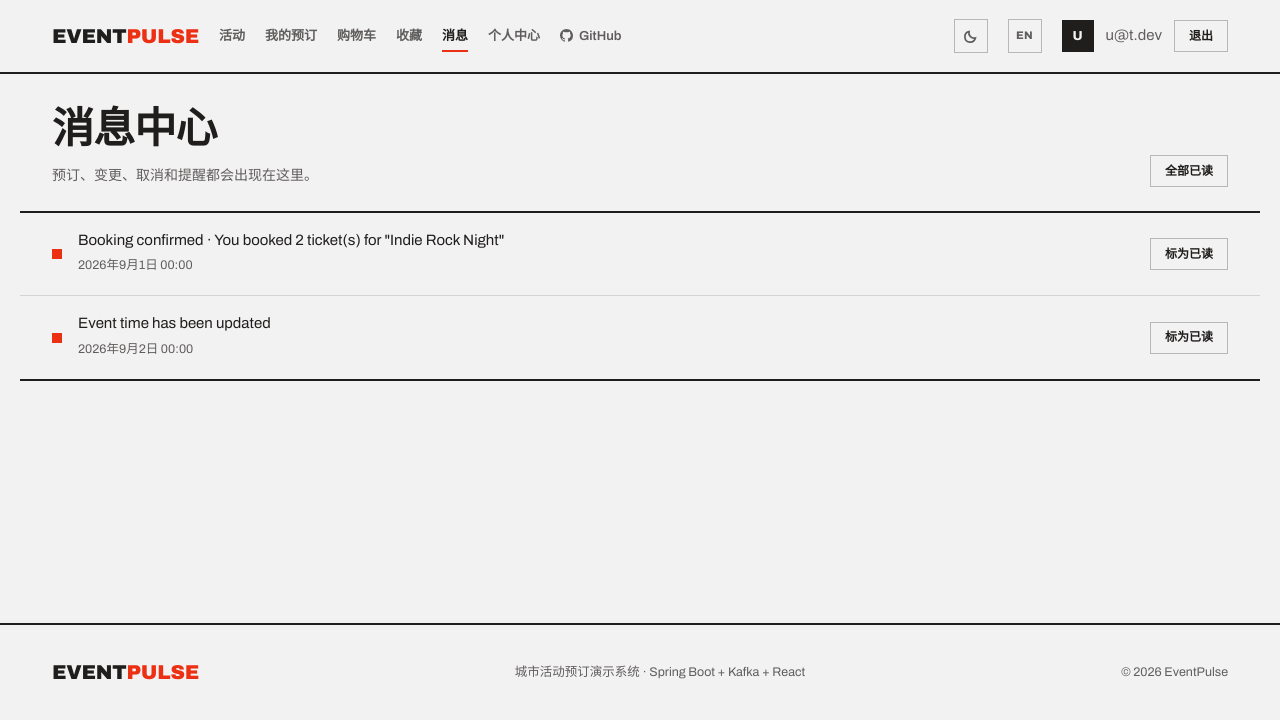
Test: NotificationsPage › removes a single message once the server accepts the read receipt
Check: the text "Event time has been updated" is shown, box [78, 315, 271, 331]
Step 1. Click the 1st button "标为已读" → (1189, 254), box [1150, 238, 1228, 270]
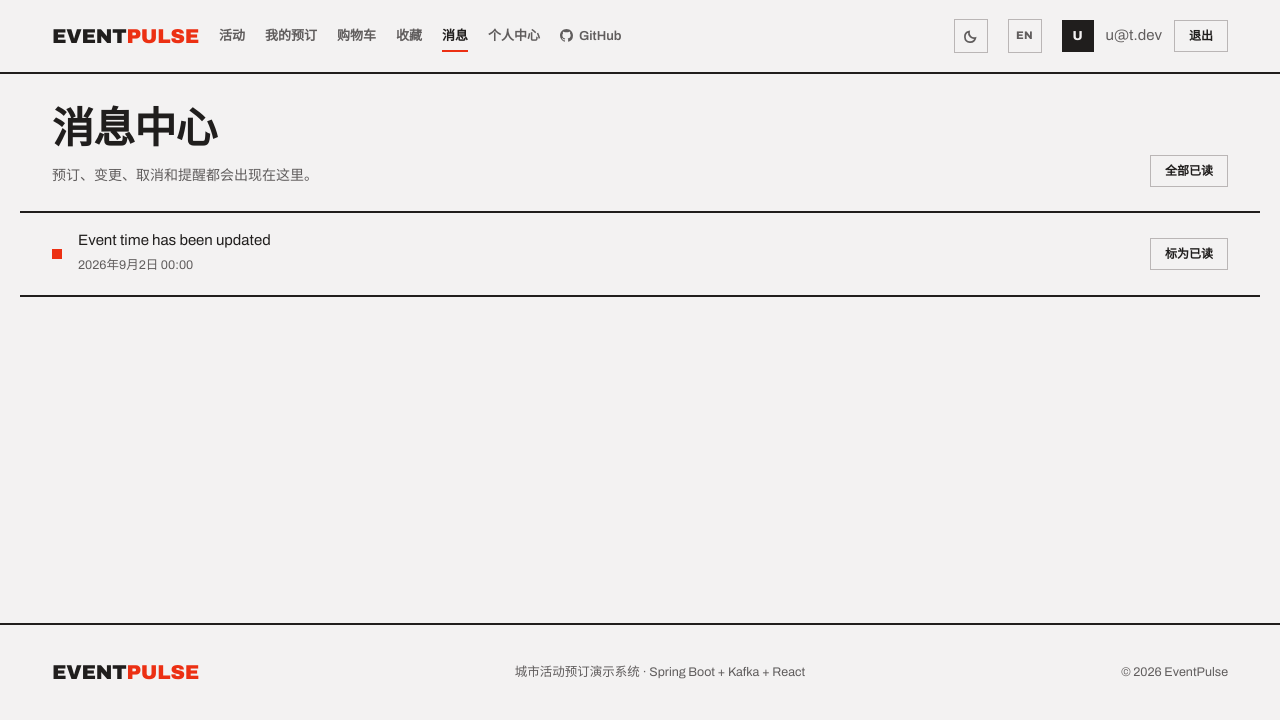
Check: the text "Event time has been updated" is shown, box [78, 232, 271, 248]
Check: the text "Booking confirmed · You booked 2 ticket(s) for \"Indie Rock Night\"" is gone
